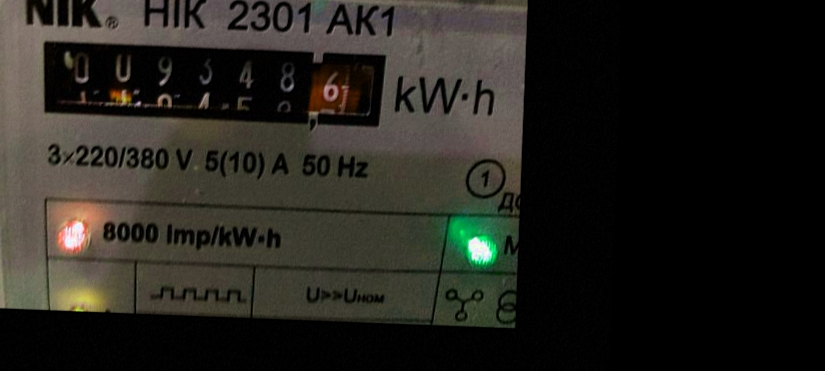0: (111, 49, 133, 86), (70, 50, 91, 86)
3: (193, 54, 216, 86)
4: (233, 55, 255, 93)
6: (319, 69, 343, 103)
8: (276, 59, 297, 94)
9: (154, 52, 173, 87)
screen: (16, 26, 405, 143)
